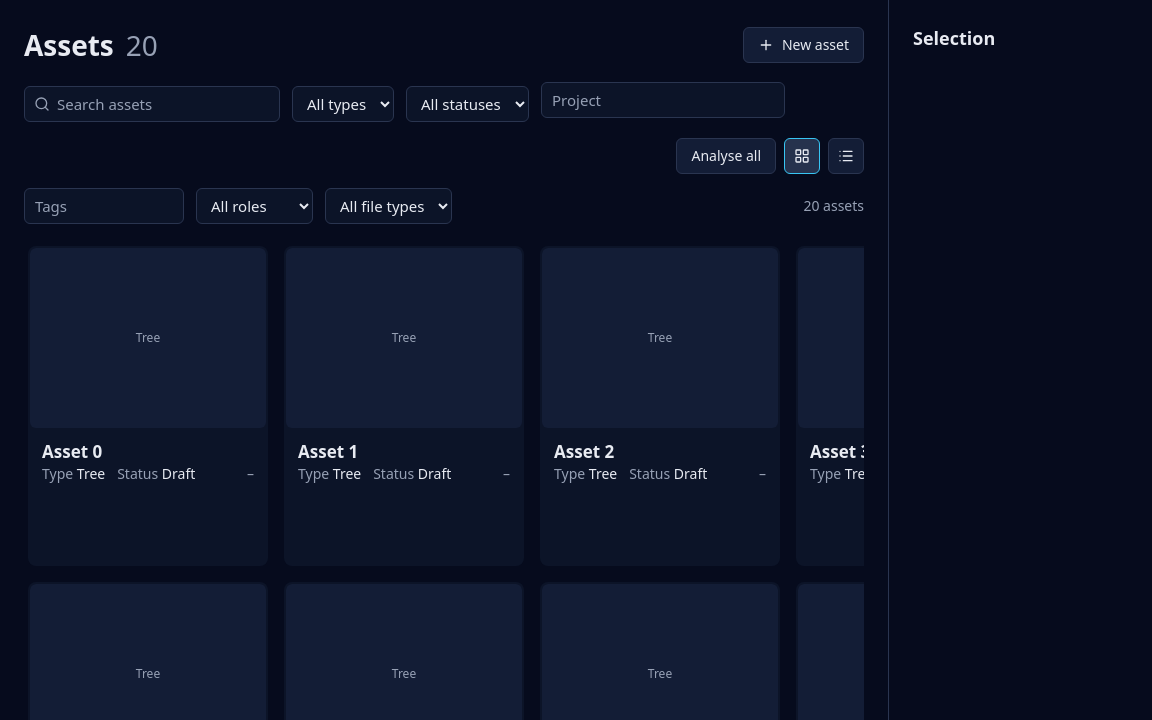
it: arrow keys move focus and selection together
Check: the text "Asset 0" is shown, box [42,440,102,463]
Click the text "Asset 0".
click(148, 406)  # box [28,246,268,566]
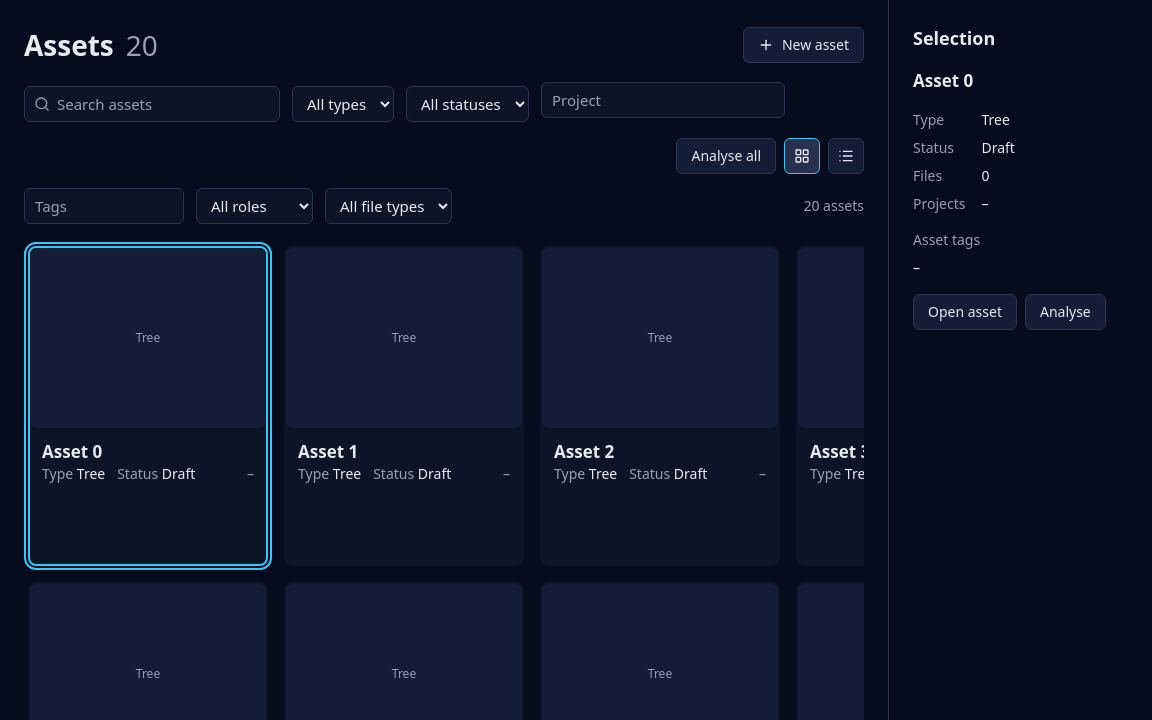
Press Arrowright
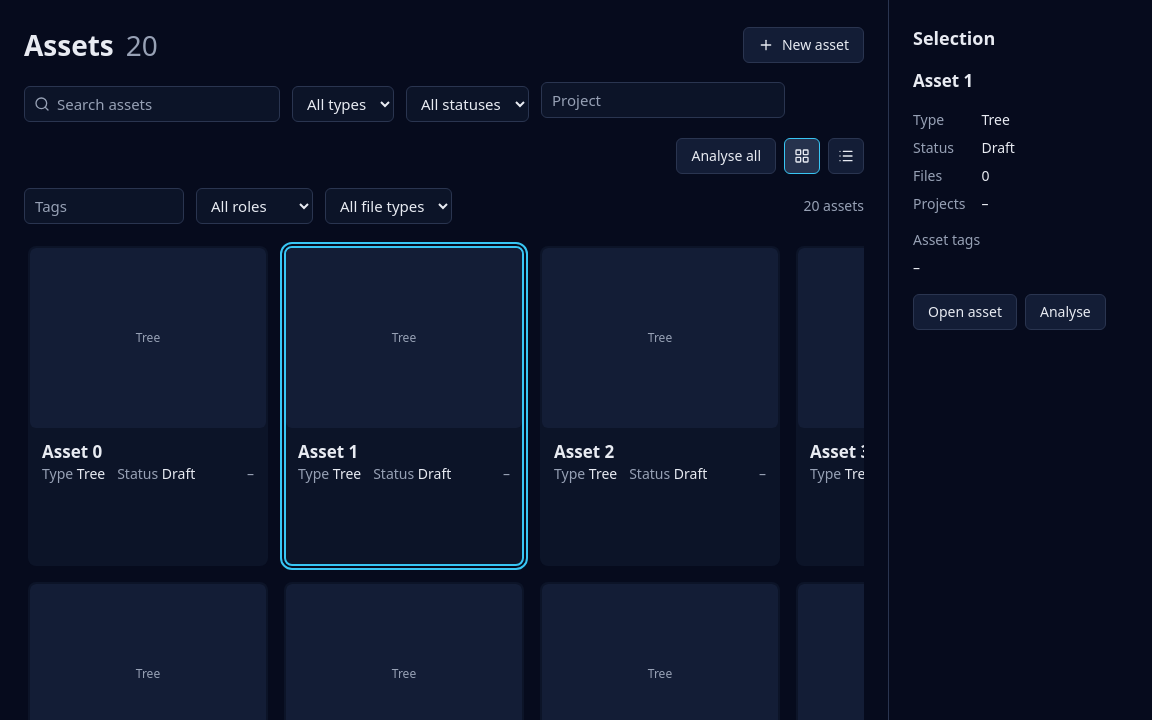
// 1280 px wide: five columns of 240 + 16.
Press Arrowdown
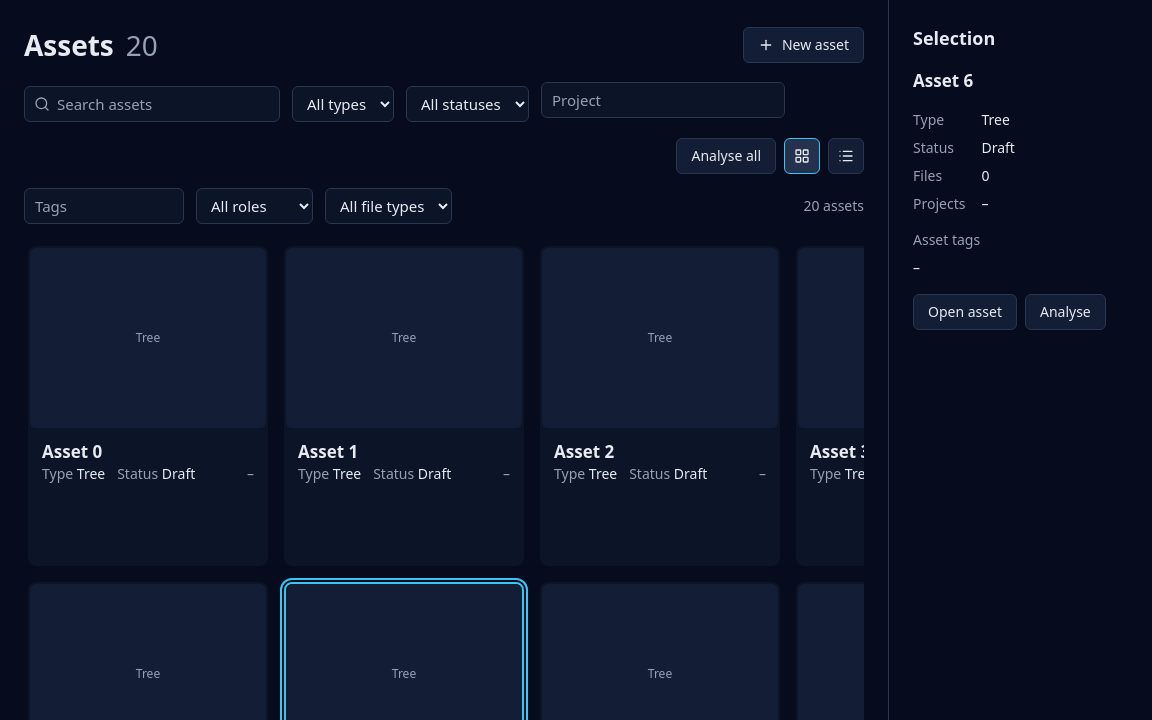
Check: the text "Asset 6" is shown, box [913,69,973,92]
